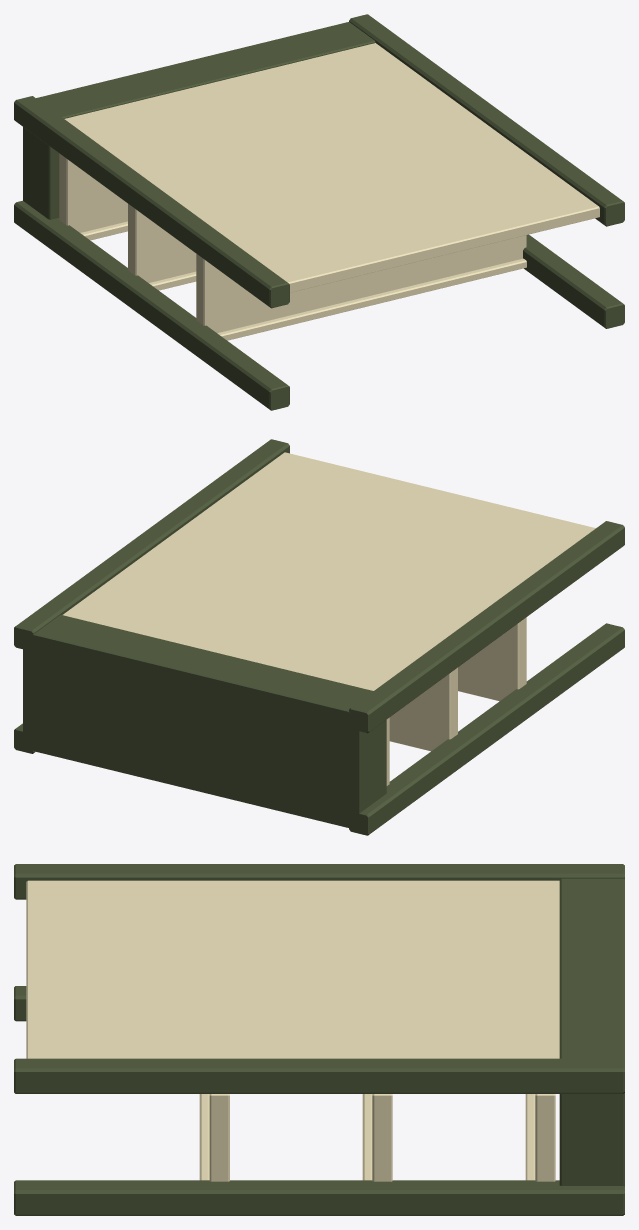
Rendered from fixture_11_pet_supplies_rack.glb.
The picture shows the model from 3 angles, top to bottom: view 1: azimuth 30°, elevation 25°; view 2: azimuth 150°, elevation 25°; view 3: azimuth 270°, elevation 25°; orthographic projection. The views are drawn at different scales.
Parts seen in each view (by area): view 1: fixture_11_pet_supplies_rack; view 2: fixture_11_pet_supplies_rack; view 3: fixture_11_pet_supplies_rack.
Boxes of the visible parts, bbox=[...] form: fixture_11_pet_supplies_rack: bbox=[14, 14, 624, 410]; fixture_11_pet_supplies_rack: bbox=[14, 439, 624, 835]; fixture_11_pet_supplies_rack: bbox=[14, 864, 624, 1215].
Size of what is drawn, in the model's own units: 1.2 by 0.4 by 1.5.
